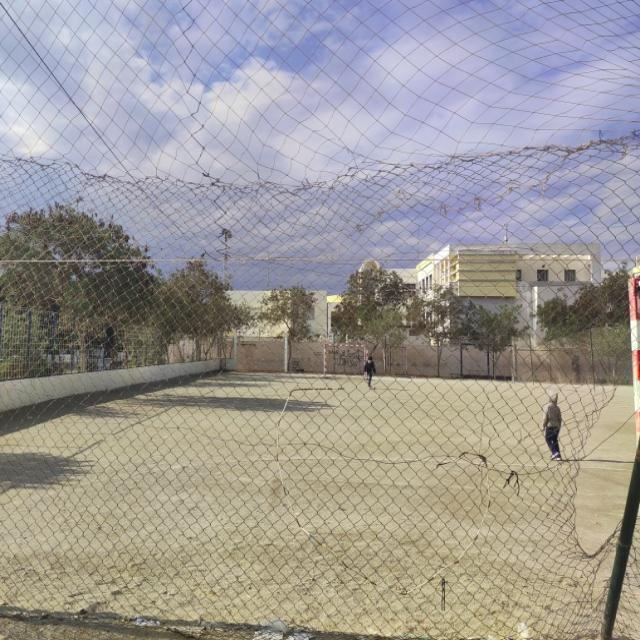fence line: (568, 382, 632, 549)
